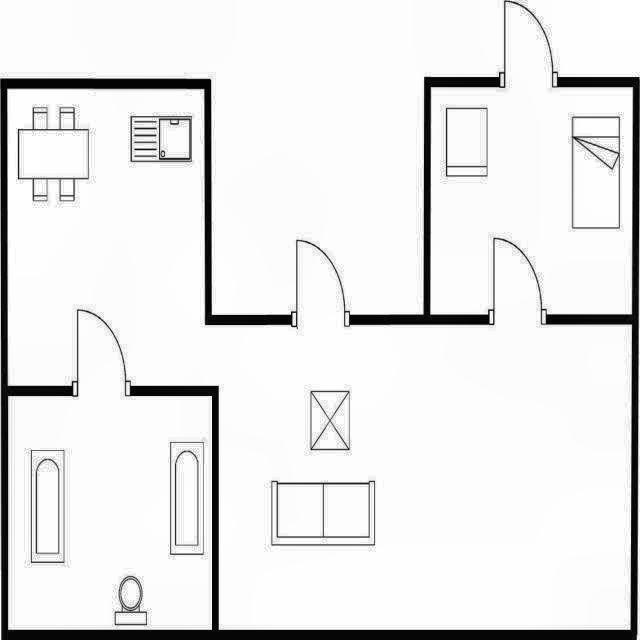room: (7, 89, 632, 630), (8, 397, 212, 629), (430, 87, 633, 315)
